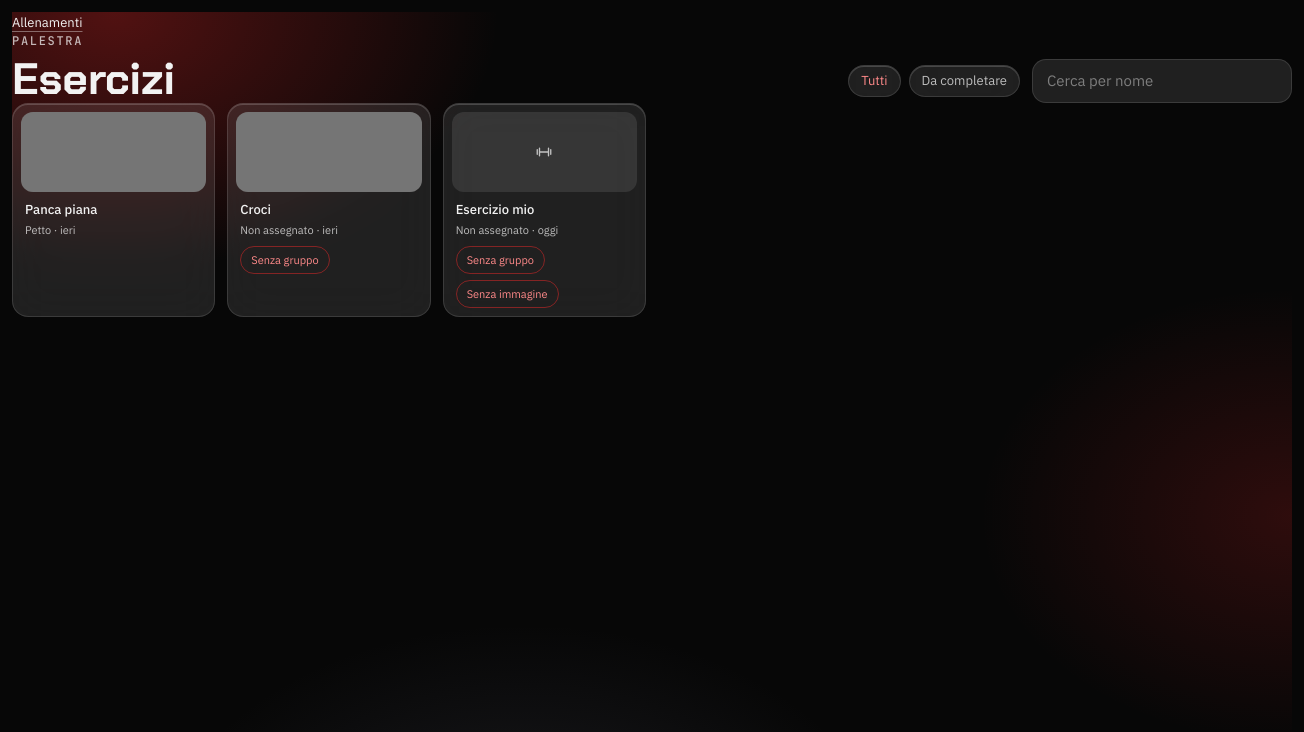
Test case: ExerciseListPage › cerca per nome e filtra quelli da completare
This screenshot has width=1304, height=732.
Expected: the list "Esercizi" is shown, [12,103,646,317]
In the search field named "Cerca esercizi": (1162, 81) [1032,59,1292,103], type "croc"
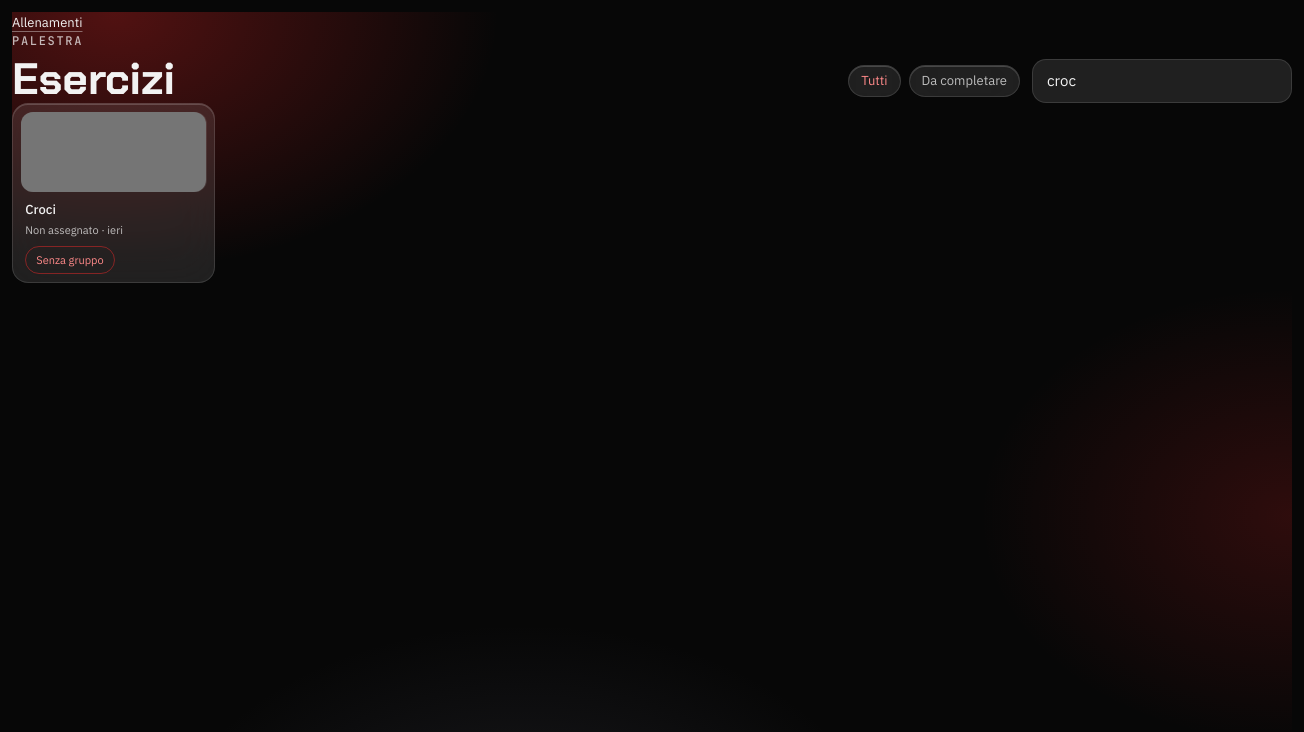
Now the number of list items is 1, box [12,103,215,283]
Clear the search field named "Cerca esercizi": (1162, 81) [1032,59,1292,103]
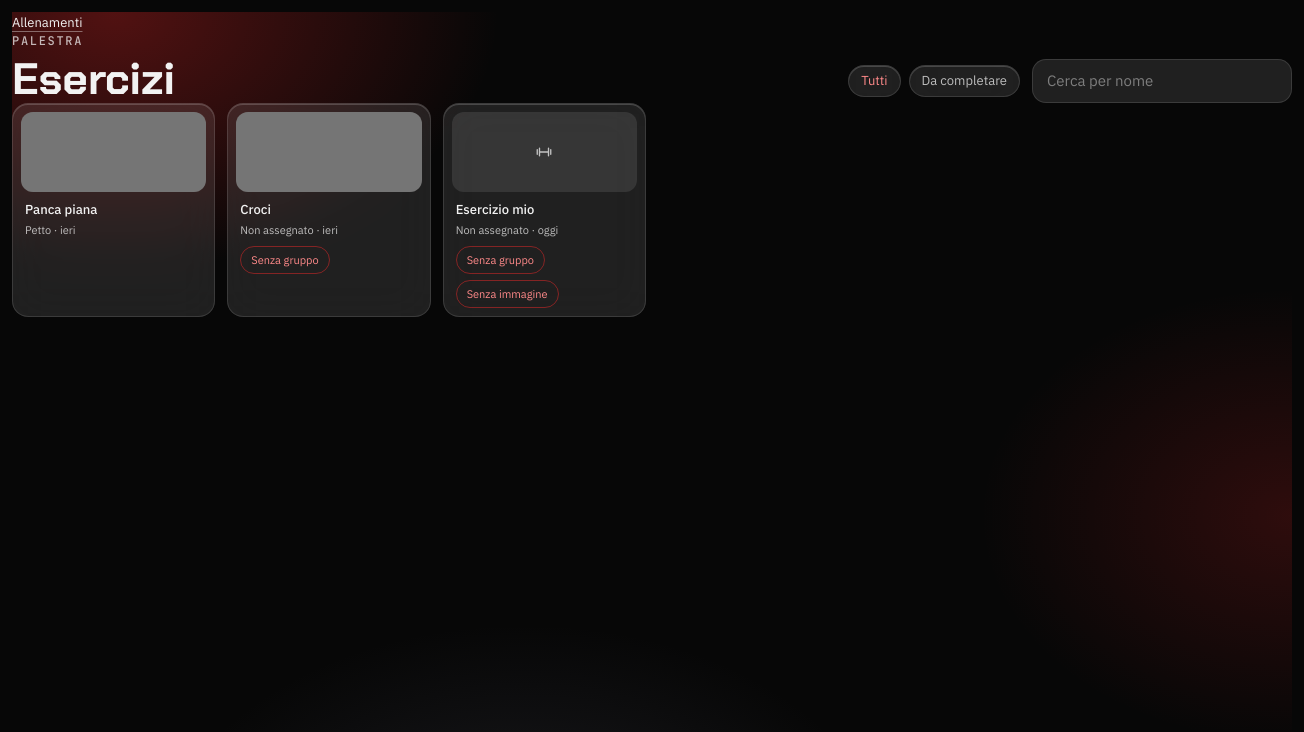
Click the radio button labelled "Da completare": click(964, 81) [909,65,1020,97]
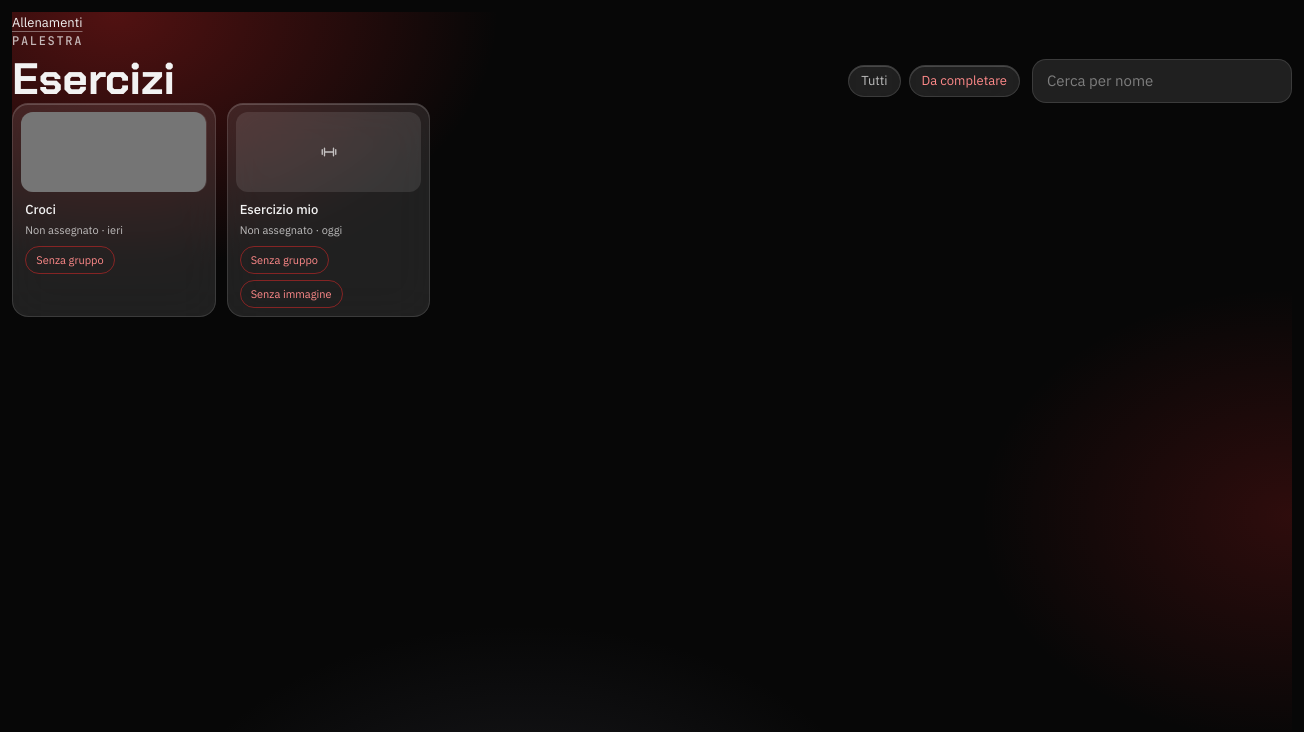
Now the number of list items is 2, box [12,103,215,317]; [227,103,431,317]
